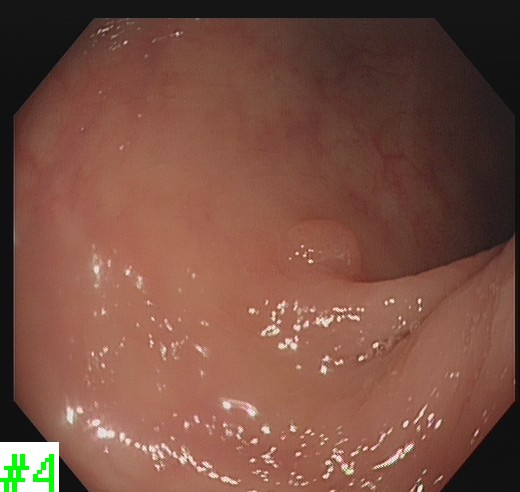adenoma: (280, 216, 365, 282)
